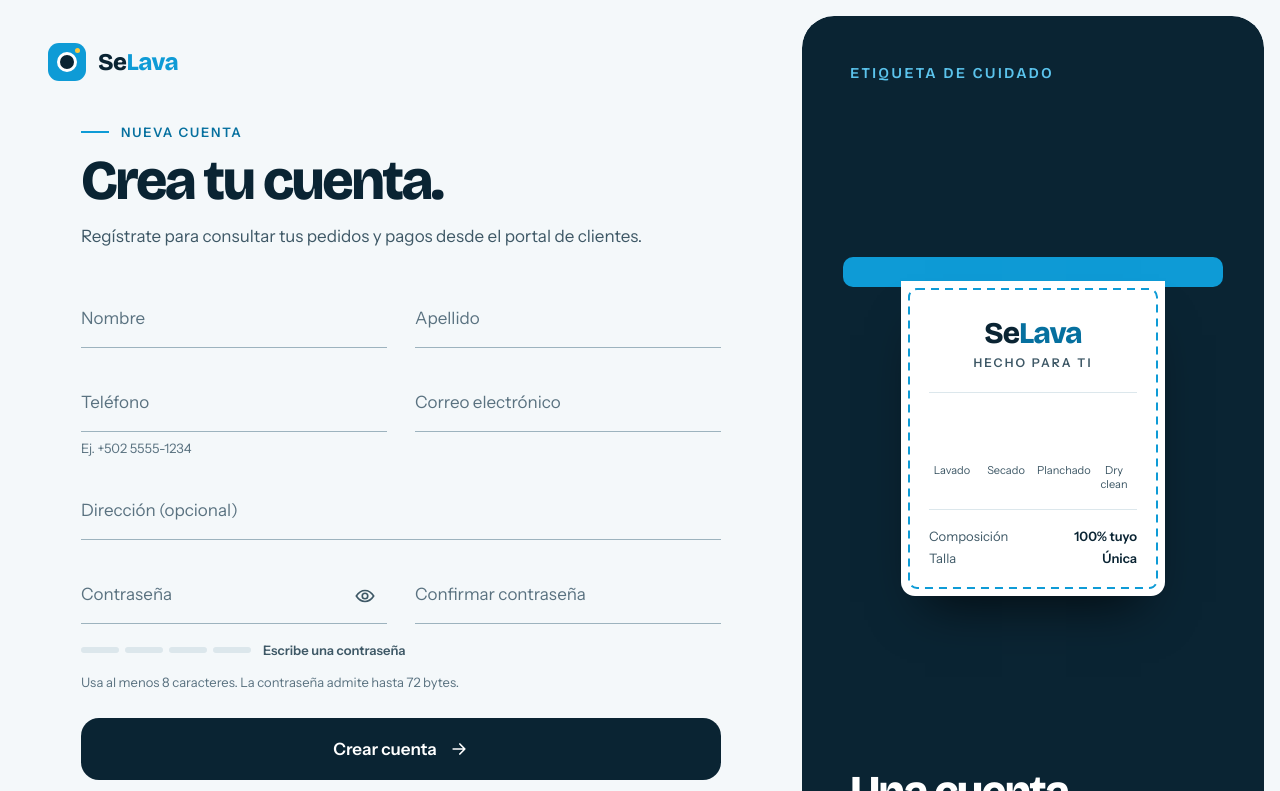
Scenario: autenticación de clientes › valida el registro antes de consultar la API
Click the button "Crear cuenta".
click(401, 749)  # box [81,718,721,780]
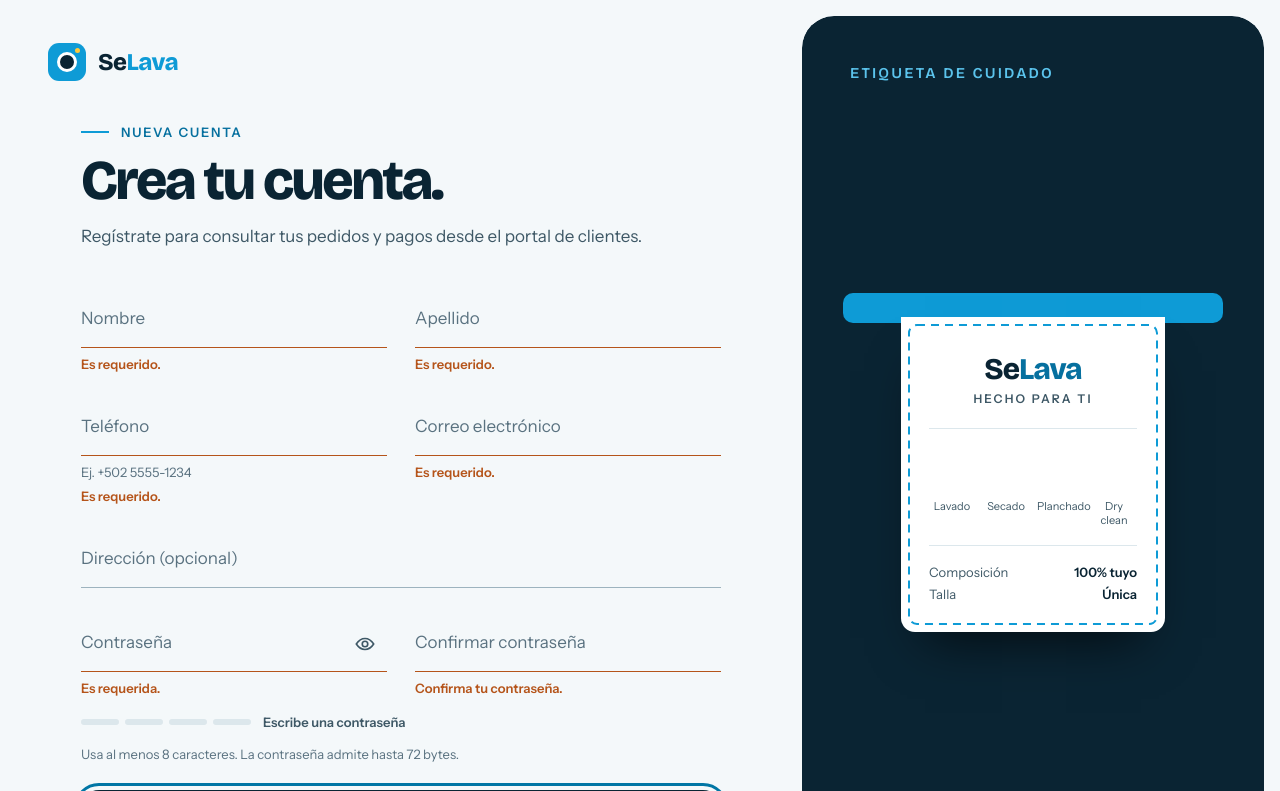
Check: the text "Es requerido." is shown 4 times, box [81,356,161,372]; [415,356,495,372]; [81,488,161,504]; [415,464,495,480]
Check: the text "Confirma tu contraseña." is shown, box [415,680,563,696]
